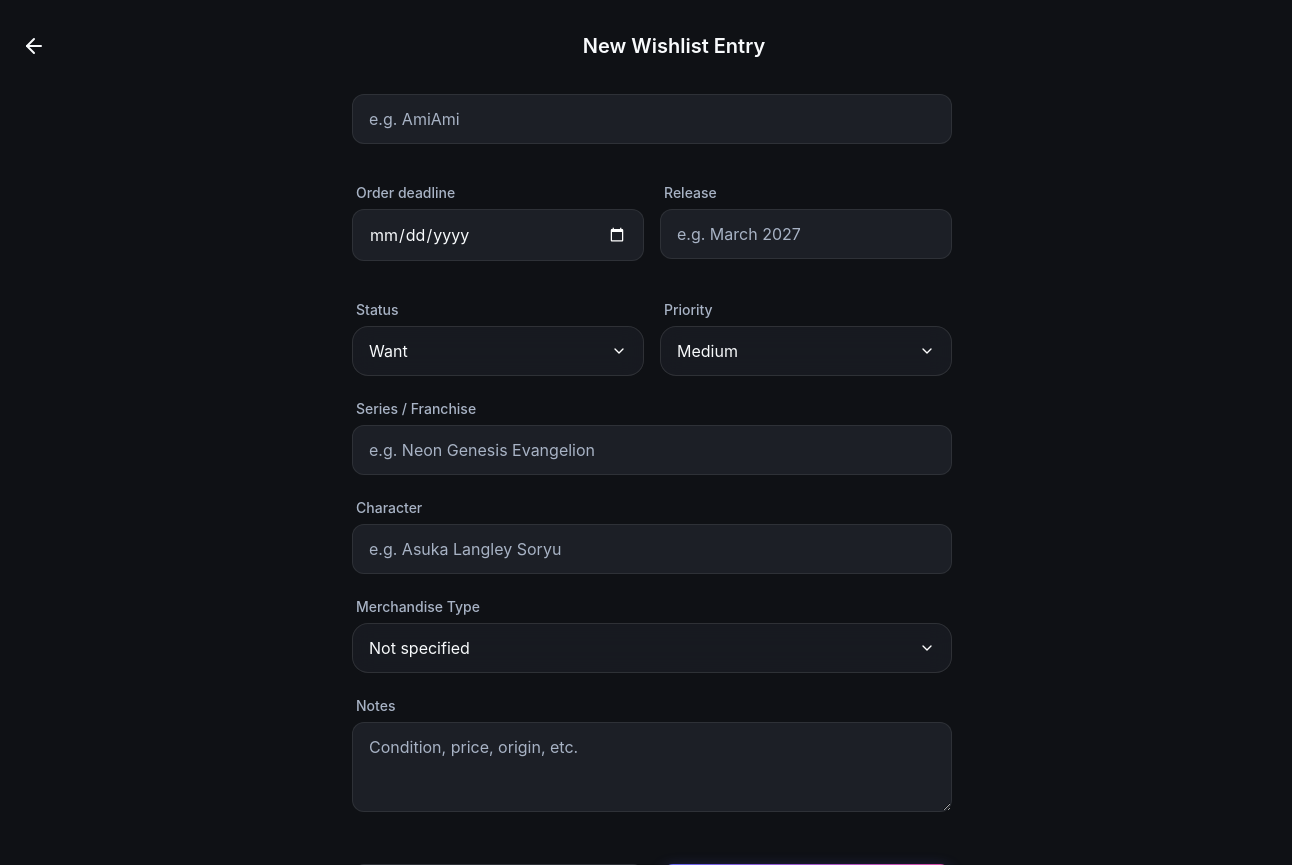
AddEditWishlistEntry › suggests series already used in the collection
The width and height of the screenshot is (1292, 865).
(page scrolled)
Step 1. Type "eva" into the dropdown labelled "Series / Franchise" → [652, 450], box [365, 436, 939, 464]
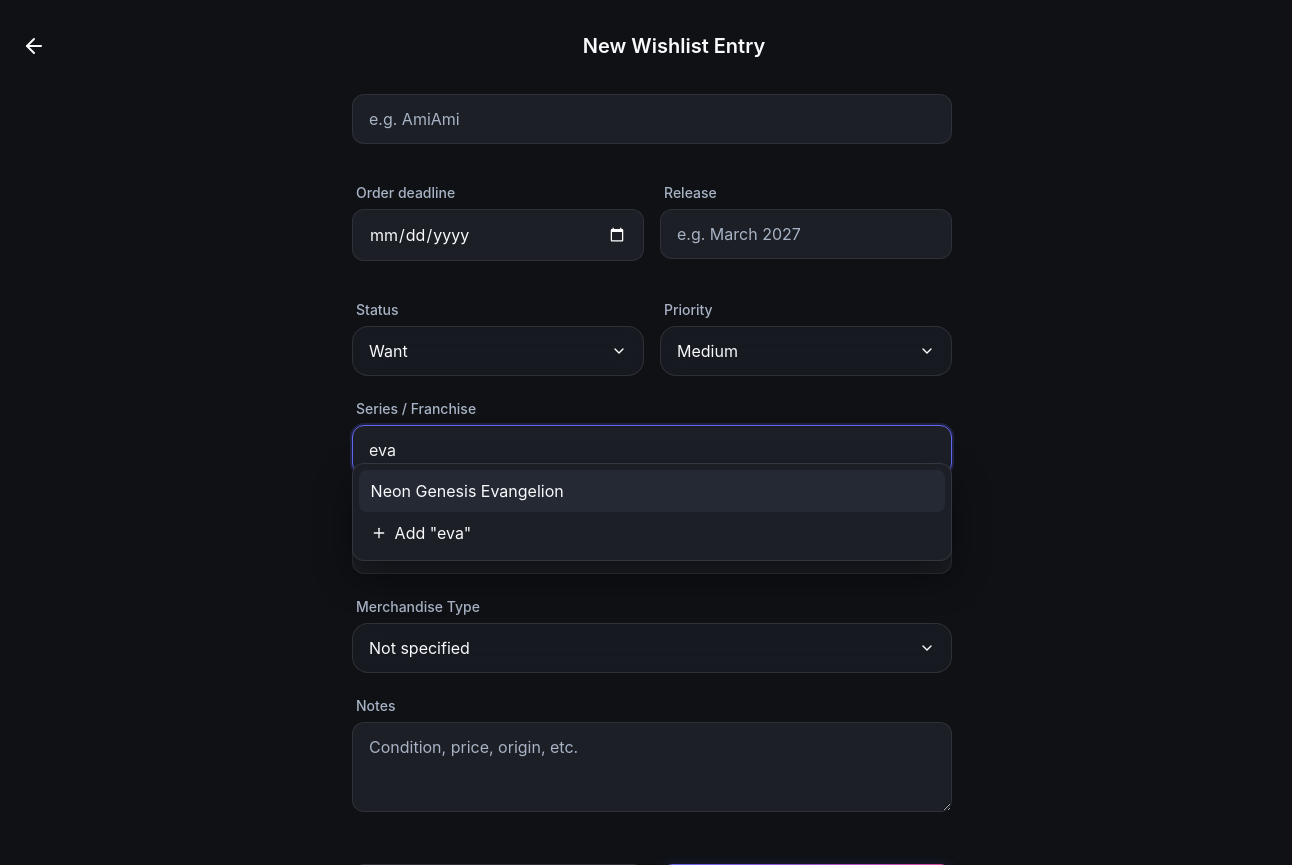
Result: the option "Neon Genesis Evangelion" is shown at [359, 470, 945, 512]
